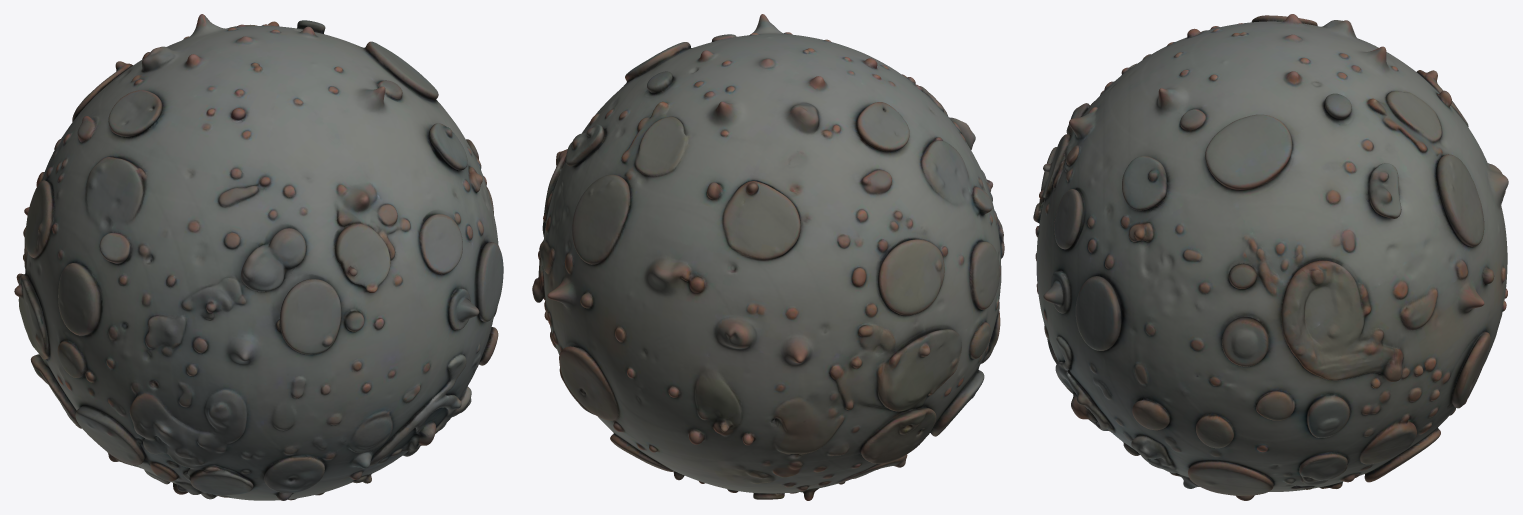
File: detailed_realistic_model_default_05.glb
The picture shows the model from 3 angles, left to right: view 1: azimuth 30°, elevation 25°; view 2: azimuth 150°, elevation 25°; view 3: azimuth 270°, elevation 25°; orthographic projection. The views are drawn at different scales.
Visible parts, largest first — view 1: tripo_node_373c1ca5-3334-48cb-99a9-bb09b643b647; view 2: tripo_node_373c1ca5-3334-48cb-99a9-bb09b643b647; view 3: tripo_node_373c1ca5-3334-48cb-99a9-bb09b643b647.
Boxes of the visible parts, x1,y1,x2,y2 form: tripo_node_373c1ca5-3334-48cb-99a9-bb09b643b647: (14,14,503,500); tripo_node_373c1ca5-3334-48cb-99a9-bb09b643b647: (532,14,1004,500); tripo_node_373c1ca5-3334-48cb-99a9-bb09b643b647: (1033,14,1508,500).
Bounding box in the file's own units: 1 × 0.9728 × 0.9755.
1 material, 1 textured.
